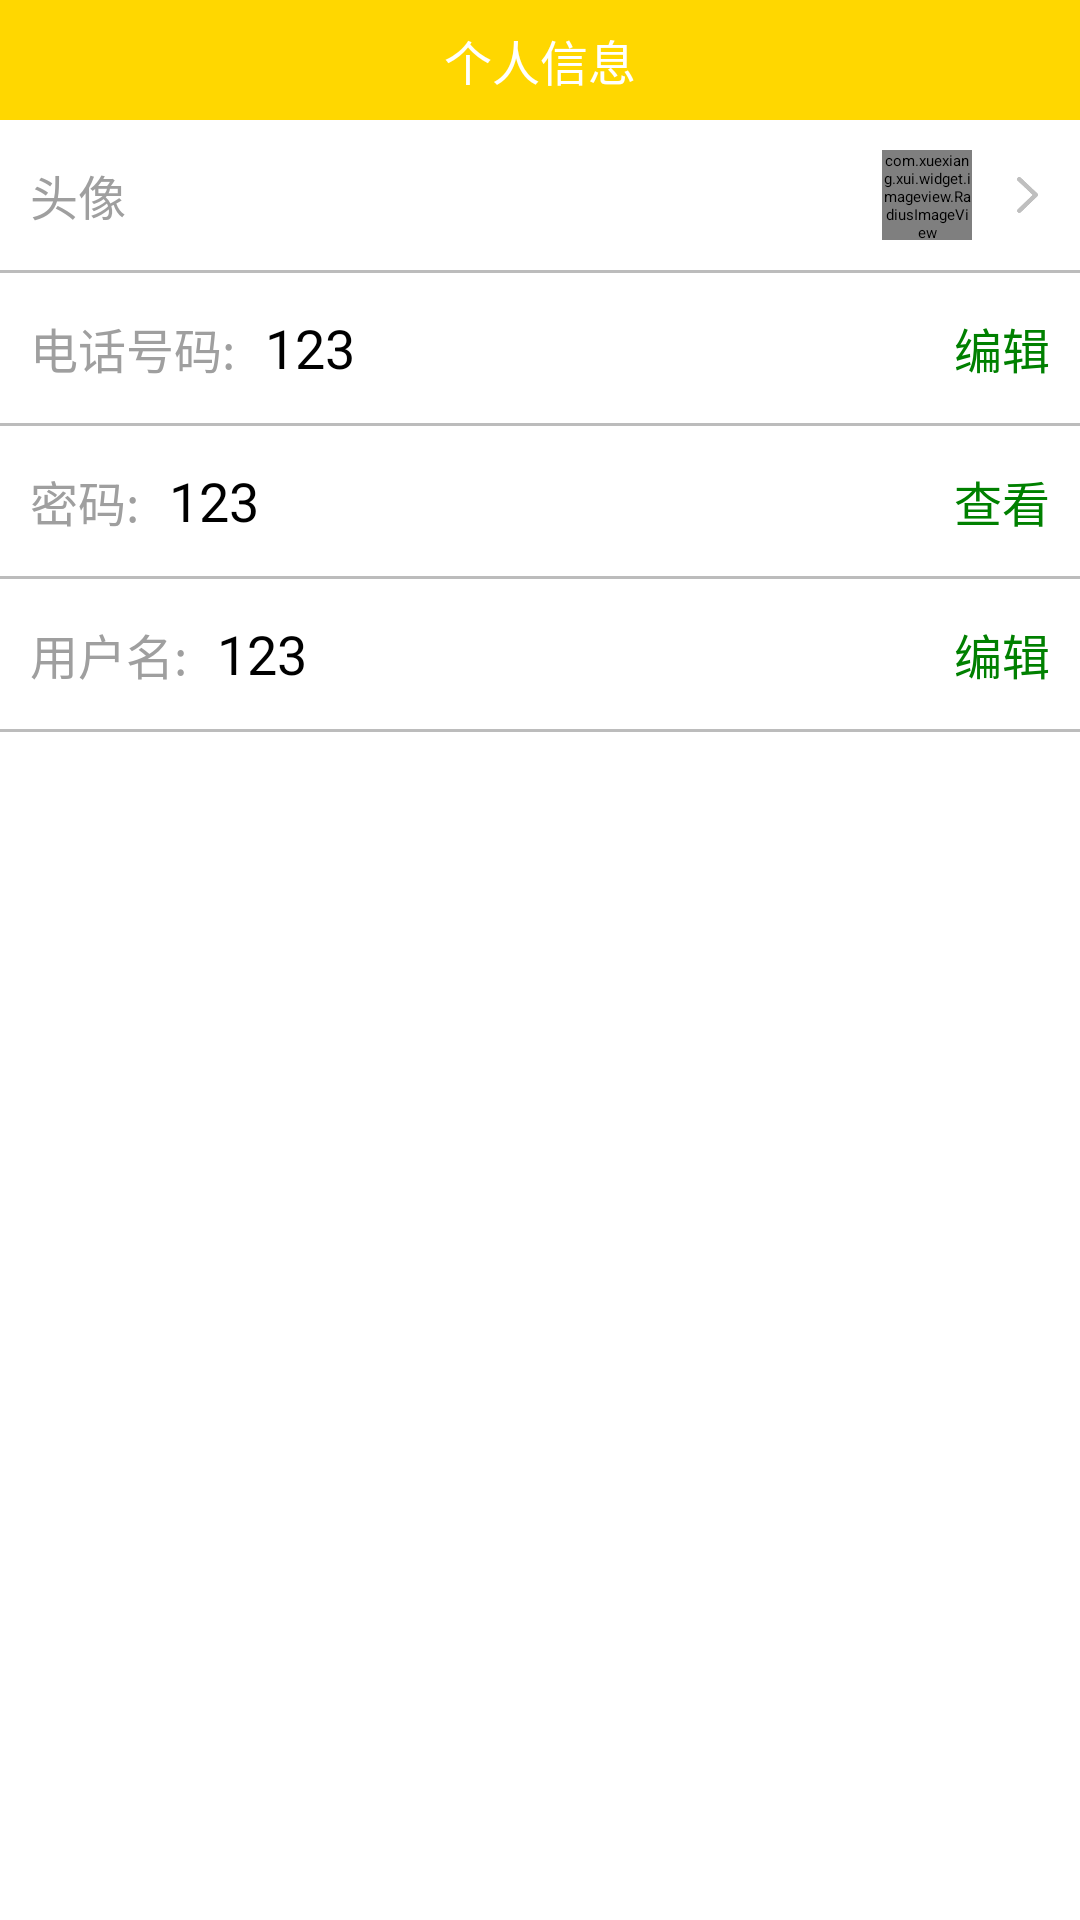

Where to tap for icons on this 1080 x 1920 app screen, as (x,y):
right: (1027,195)
